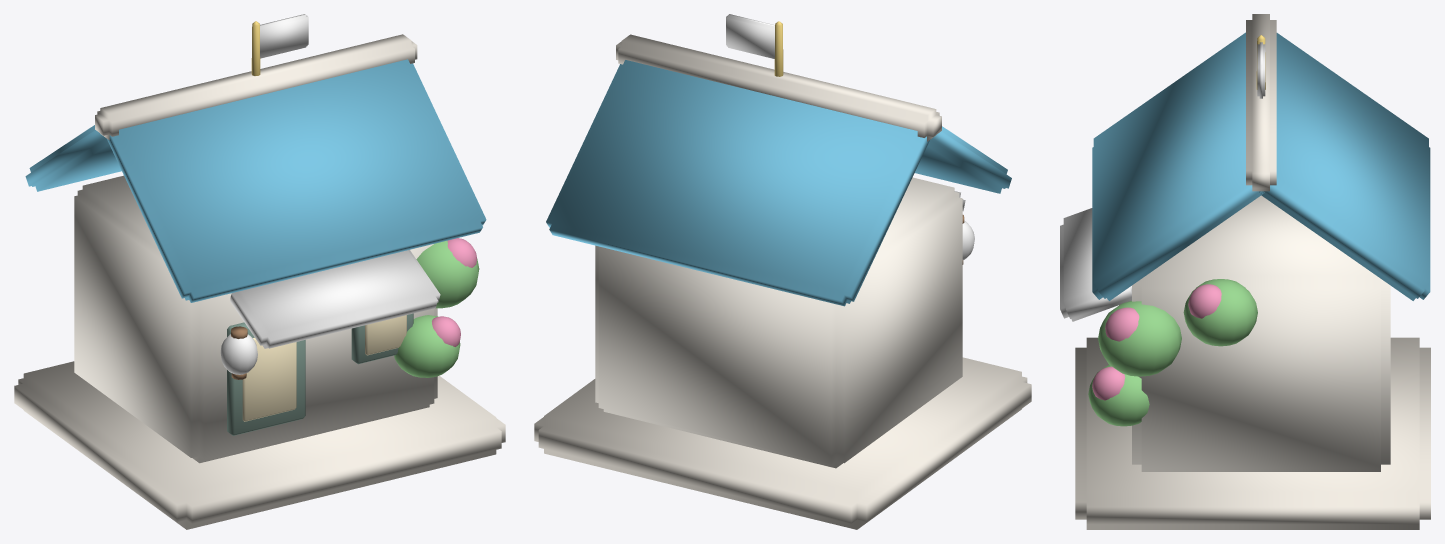
Rendered from lvl1_saigon.glb.
3 renders of one model, left to right at view 1: azimuth 30°, elevation 25°; view 2: azimuth 150°, elevation 25°; view 3: azimuth 270°, elevation 25°, orthographic. The views are drawn at different scales.
Parts seen in each view (by area): view 1: lvl1_saigon; view 2: lvl1_saigon; view 3: lvl1_saigon.
Part boxes in pixels (x1,y1,x2,y2): lvl1_saigon: (14, 14, 505, 529); lvl1_saigon: (534, 14, 1031, 529); lvl1_saigon: (1060, 14, 1430, 529).
Bounding box in the file's own units: 0.48 × 0.57 × 0.459.
